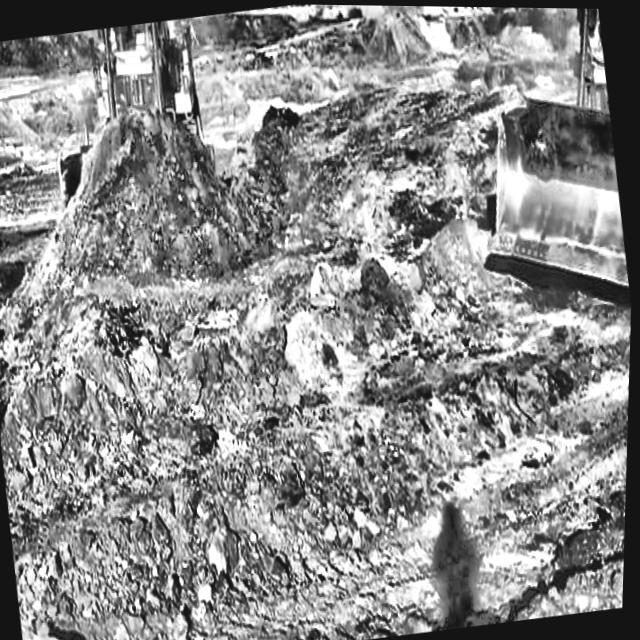buldozerpayloadergrader: (444, 5, 640, 330), (41, 14, 225, 217)
